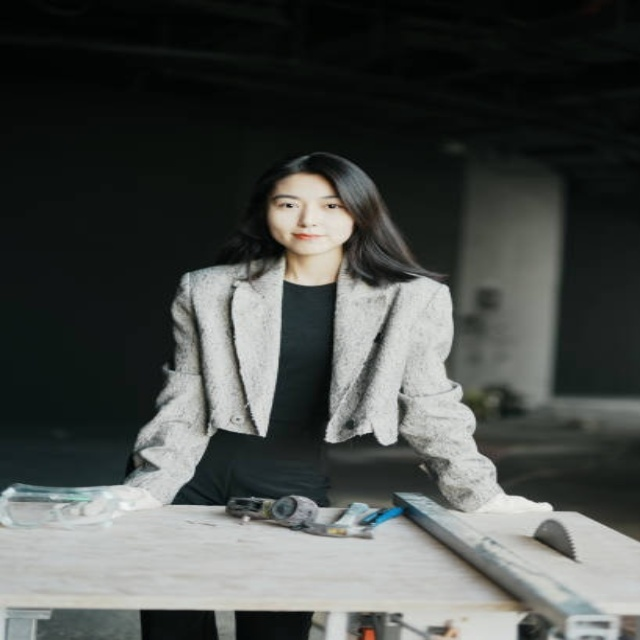Guantes: (52, 484, 166, 518), (471, 490, 556, 515)
Sin_gafas: (271, 191, 340, 216)
Sin_mascara: (282, 226, 335, 249)
